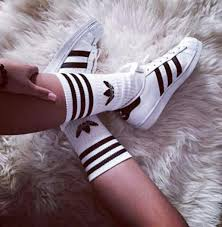adidas: (75, 120, 99, 139), (103, 81, 115, 107)
